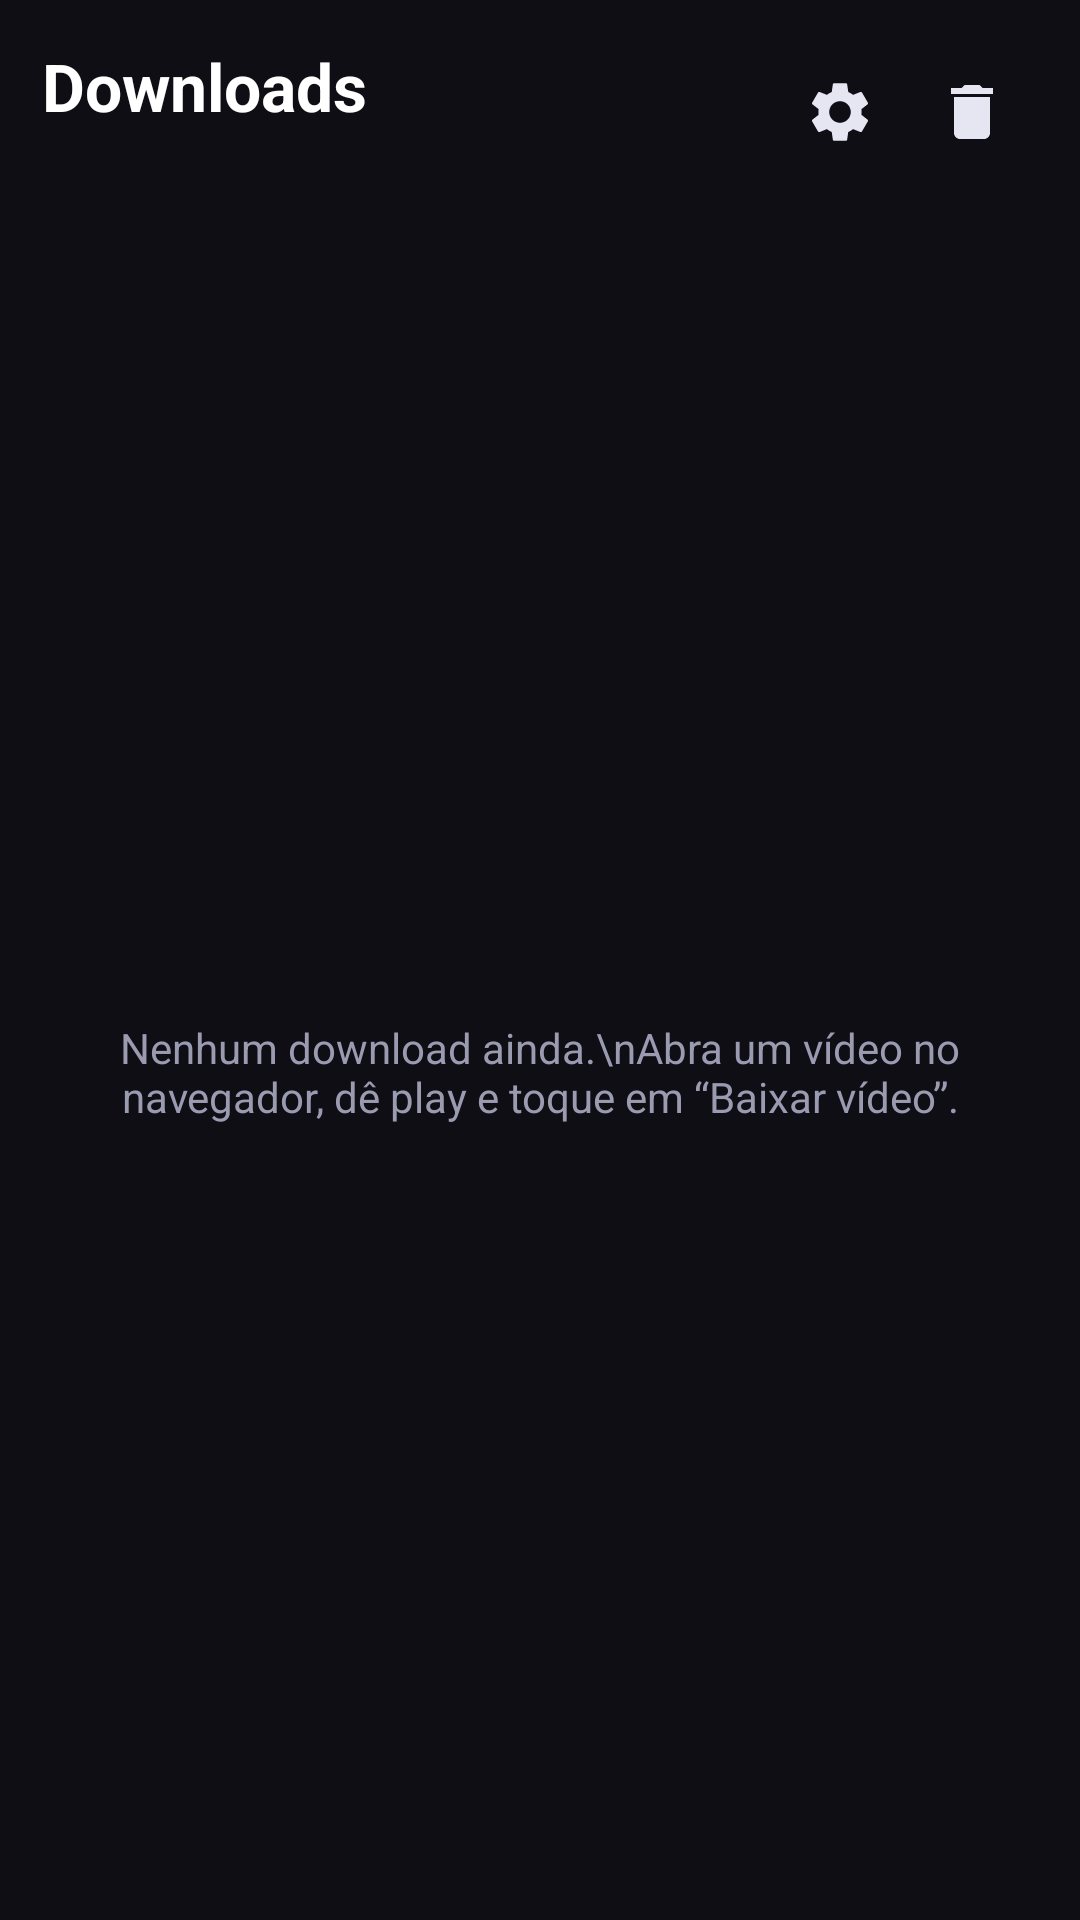

Screen size 1080px×1920px. Icon name, then its box in pixels as BBox(x1, y1, x2, y2):
Configurações: BBox(812, 83, 868, 141)
Limpar concluídos: BBox(951, 85, 993, 139)
